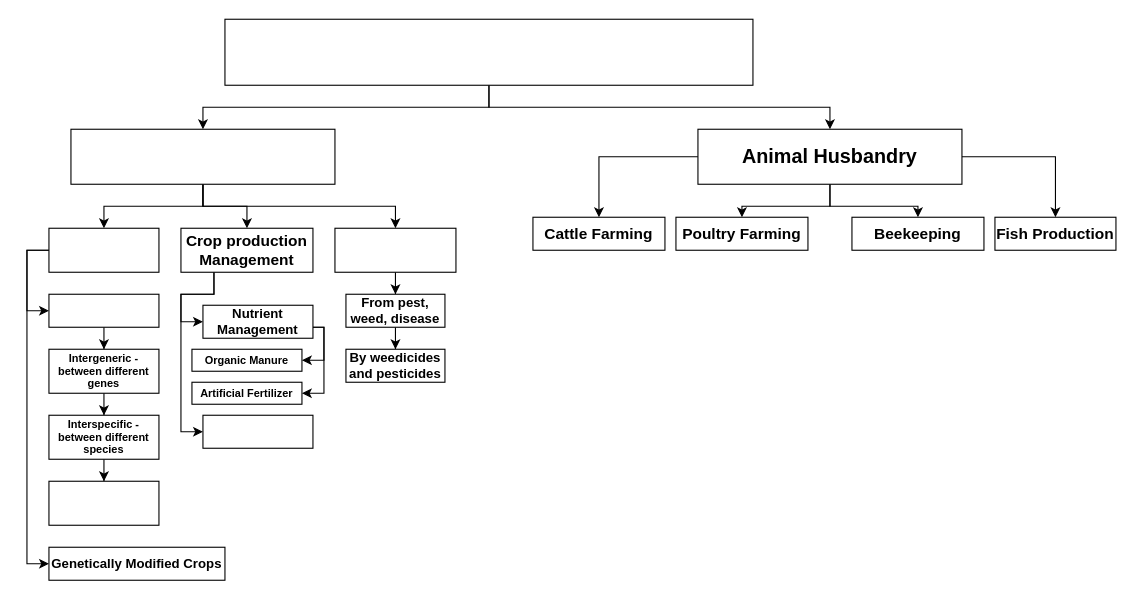
This 1135x608 diagram has some shape labels left out. The box of each missing label's shape, as (x1, y1, x2, y2) in pixels:
Agriculture: (70, 128, 335, 184)
Crop Protection Management: (334, 227, 456, 272)
Crop Variety Improvement: (48, 227, 159, 272)
Hybridization: (48, 293, 159, 327)
Improvement in Food Resources: (224, 18, 753, 85)
Intervarietal - between different varieties: (48, 480, 159, 525)
Irrigation: (202, 414, 313, 448)
